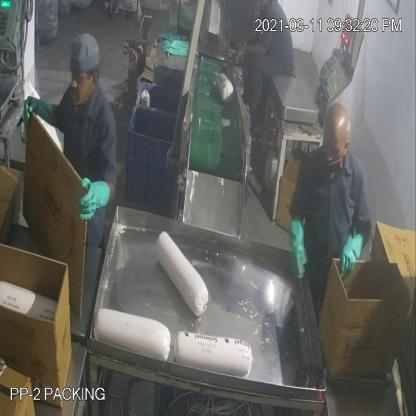glove: (79, 165, 114, 230), (336, 226, 365, 284)
no_glove: (235, 41, 270, 71)
